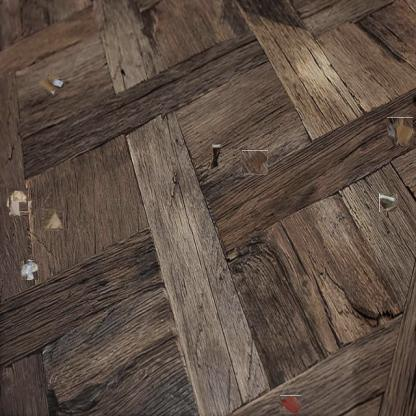dirty: (387, 118, 414, 145), (38, 71, 66, 97), (6, 190, 30, 214), (40, 208, 64, 230), (209, 143, 223, 169), (20, 260, 38, 280), (379, 193, 397, 212)
liquid: (243, 150, 268, 174), (279, 395, 301, 414)
